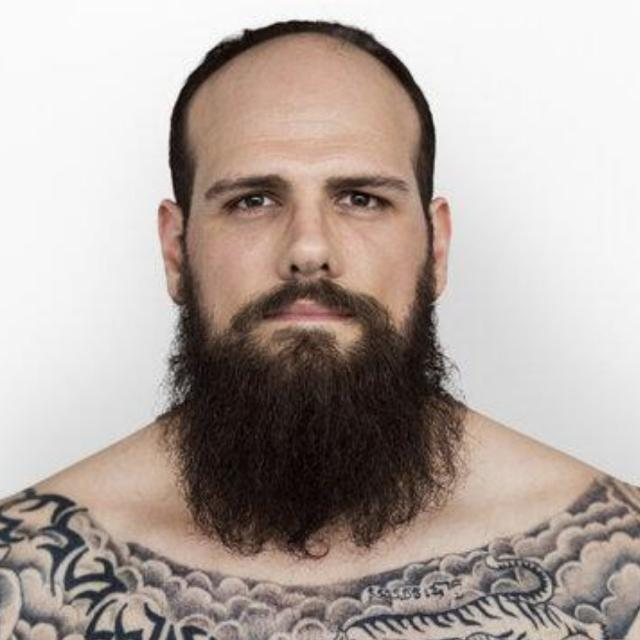Natural: (128, 68, 576, 566)
